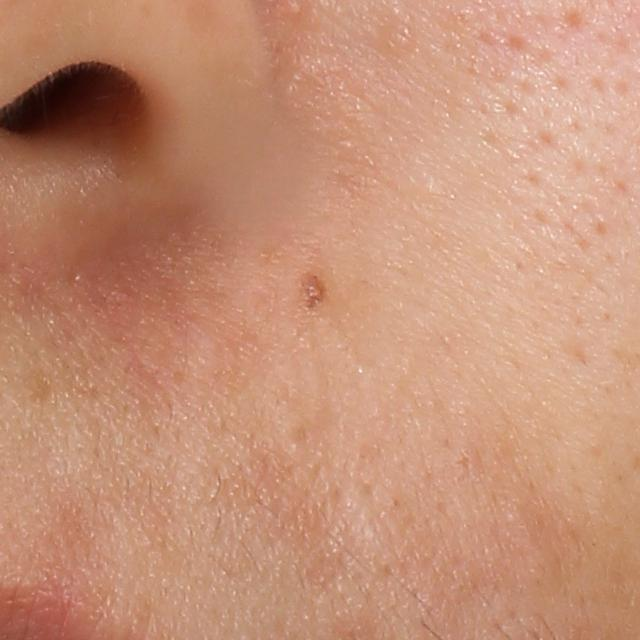nevus: (292, 270, 337, 315)
